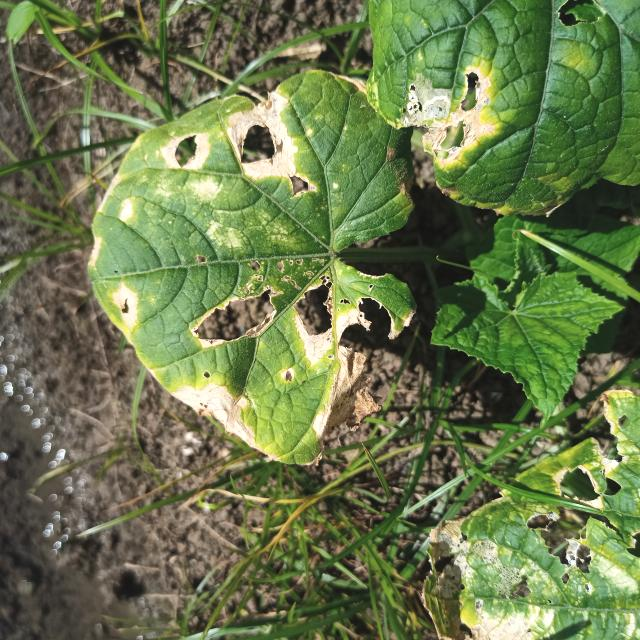disease_cucumber: (90, 82, 390, 462), (400, 68, 516, 170)
